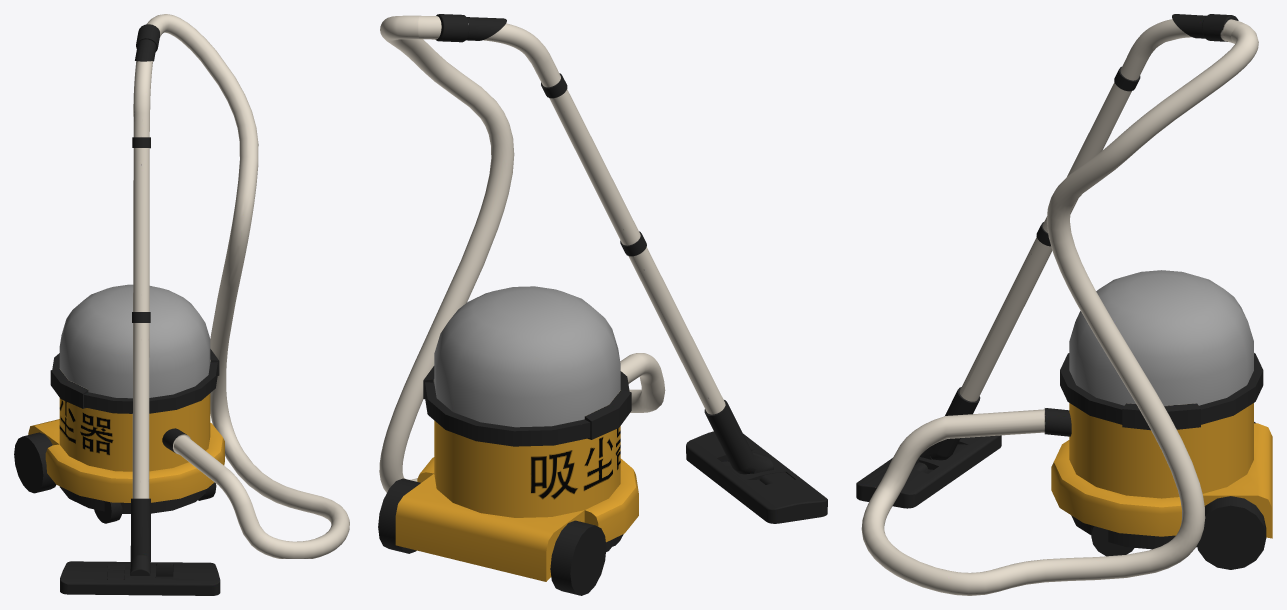
The model's file is xcq.FBX.
3 views of the same model, side by side, from view 1: azimuth 30°, elevation 25°; view 2: azimuth 150°, elevation 25°; view 3: azimuth 270°, elevation 25° (orthographic). The views are drawn at different scales.
Parts seen in each view (by area): view 1: pCylinder8; view 2: pCylinder8; view 3: pCylinder8.
Boxes of the visible parts, <box> form: pCylinder8: <box>14,14,349,595</box>; pCylinder8: <box>378,14,827,595</box>; pCylinder8: <box>856,14,1272,595</box>.
Bounding box in the file's own units: 60.77 × 89.26 × 62.88.
1 material, 1 textured.
